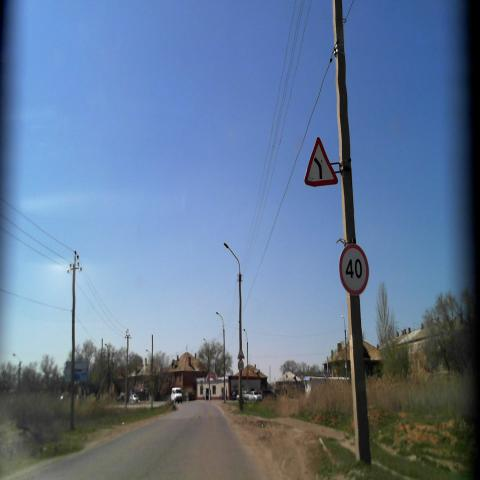1_11_1: (303, 133, 338, 188)
